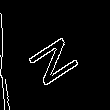N_NE: (21, 26, 86, 87)
